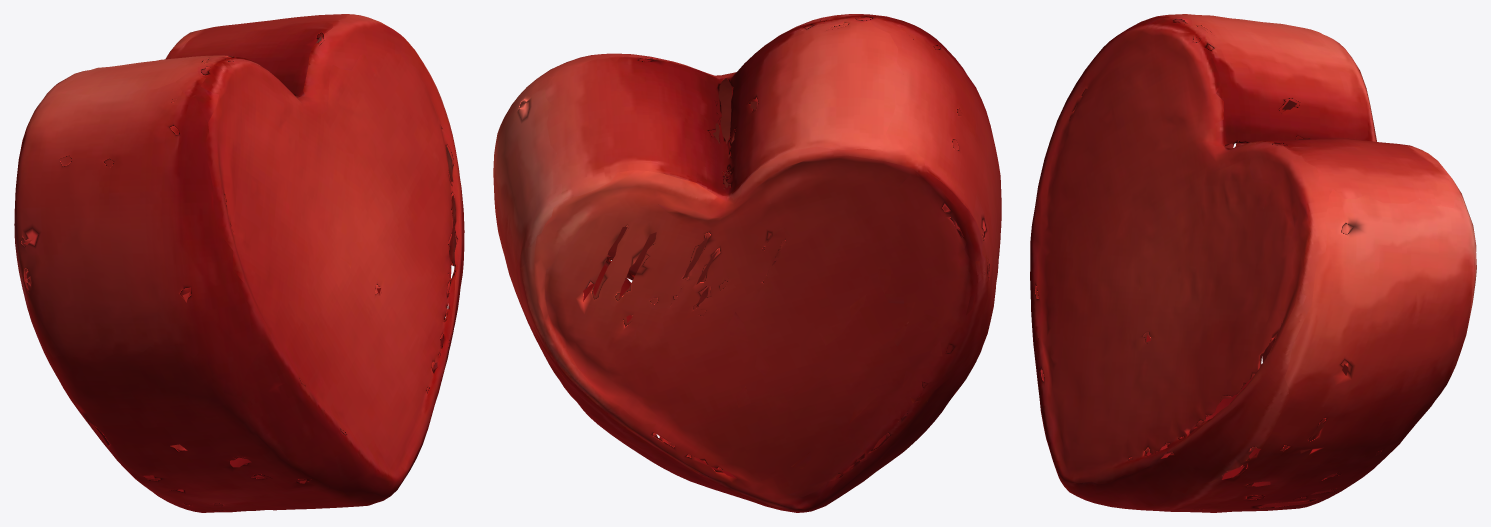
The model's file is token-heart.glb.
3 views of the same model, side by side, from view 1: azimuth 30°, elevation 25°; view 2: azimuth 150°, elevation 25°; view 3: azimuth 270°, elevation 25° (orthographic).
Parts seen in each view (by area): view 1: geometry_0; view 2: geometry_0; view 3: geometry_0.
Part boxes in pixels (x1,y1,x2,y2): geometry_0: [14, 14, 464, 512]; geometry_0: [493, 14, 1001, 512]; geometry_0: [1030, 14, 1476, 512].
Size of the model in its own units: 0.8556 by 0.8374 by 0.7345.
Materials: 1 (1 with a texture image).
